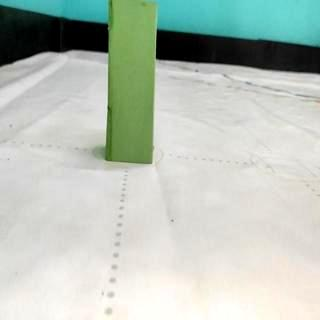greenbox: (106, 1, 160, 165)
